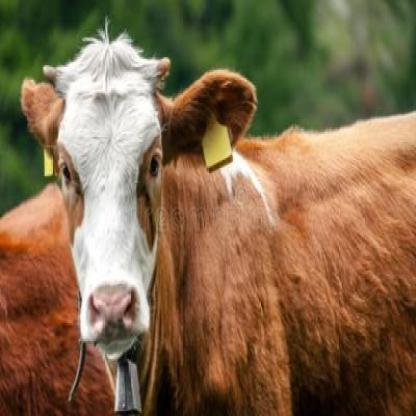lower: (97, 340, 139, 354)
mouth: (79, 289, 150, 359)
upper: (87, 292, 137, 330)
